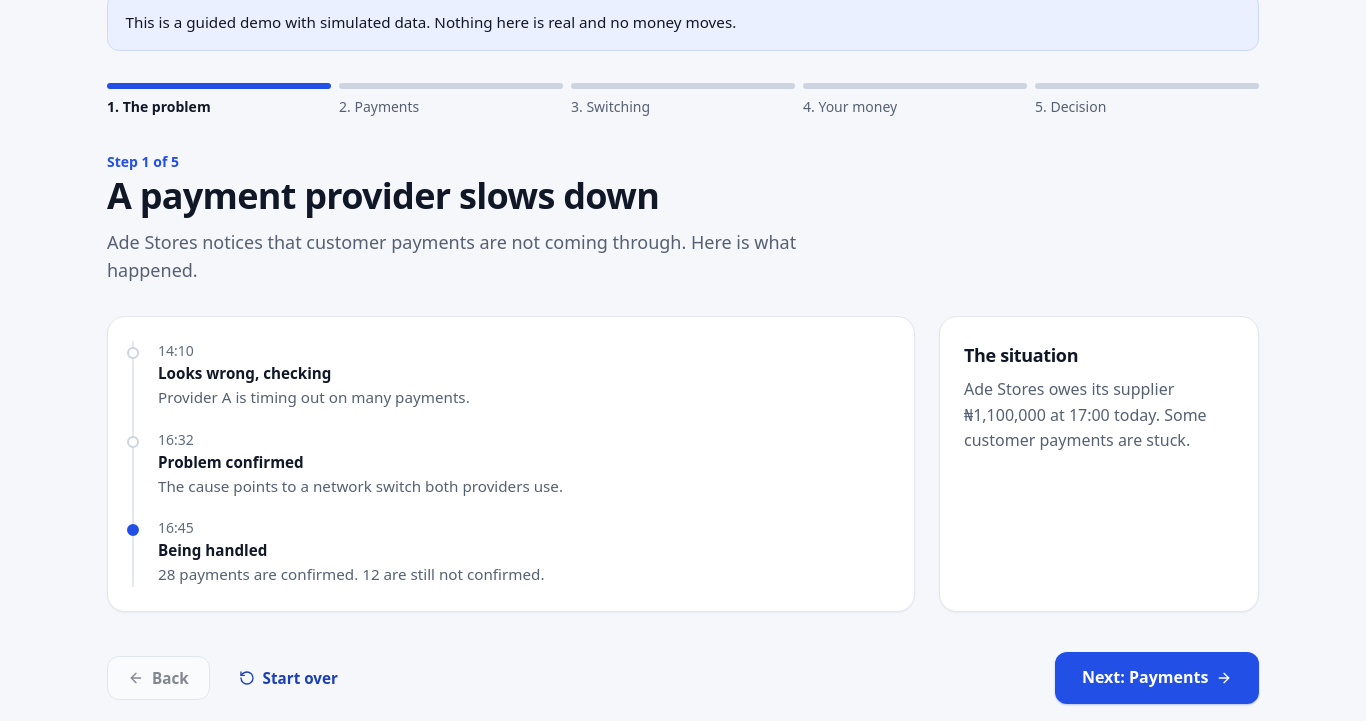
Test: guided demo experience › walks through the steps and gates approval by role
The image size is (1366, 721).
Check: the heading "A payment provider slows down" is shown, box x1=107 y1=171 x2=659 y2=220
Click the button "Next: Payments".
click(1157, 678)  # box x1=1055 y1=652 x2=1259 y2=704
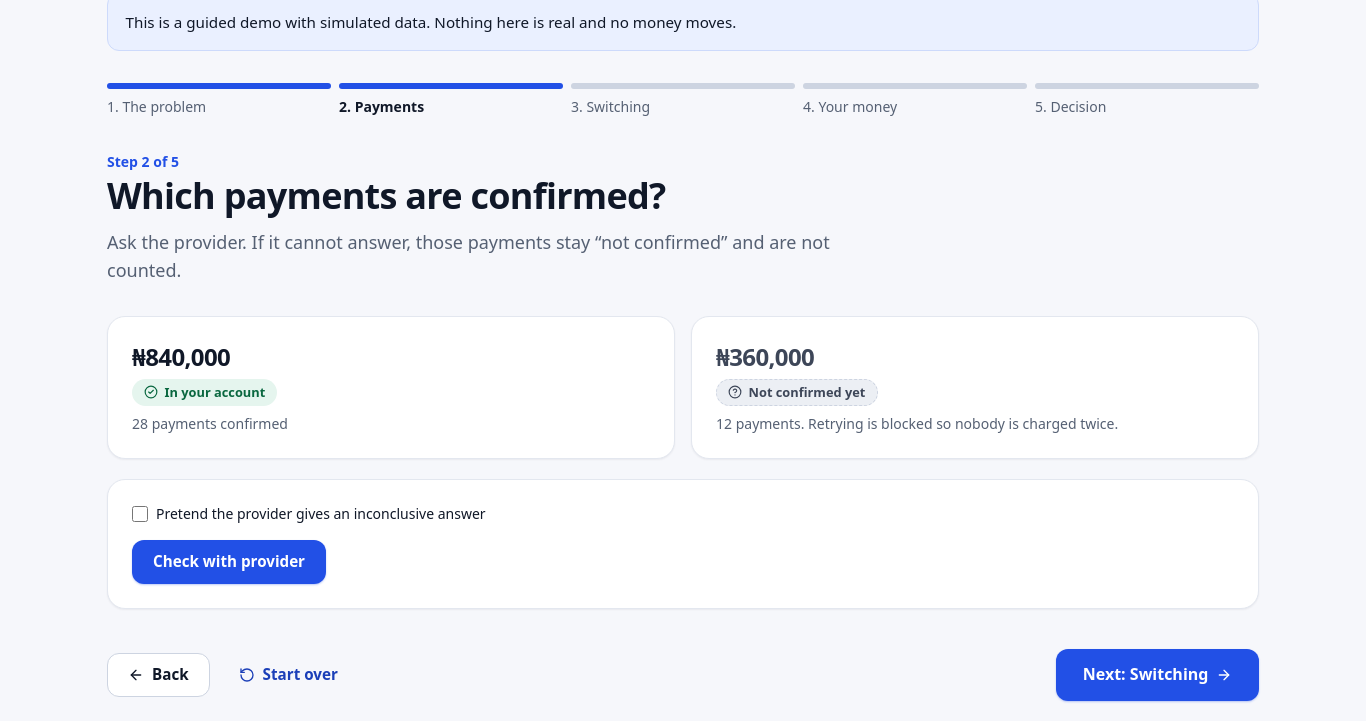
Check: the heading "Which payments are confirmed?" is shown, box x1=107 y1=171 x2=666 y2=220
Click the button with aria-label "Step 5: Decision".
click(1147, 100)  # box x1=1035 y1=83 x2=1259 y2=117
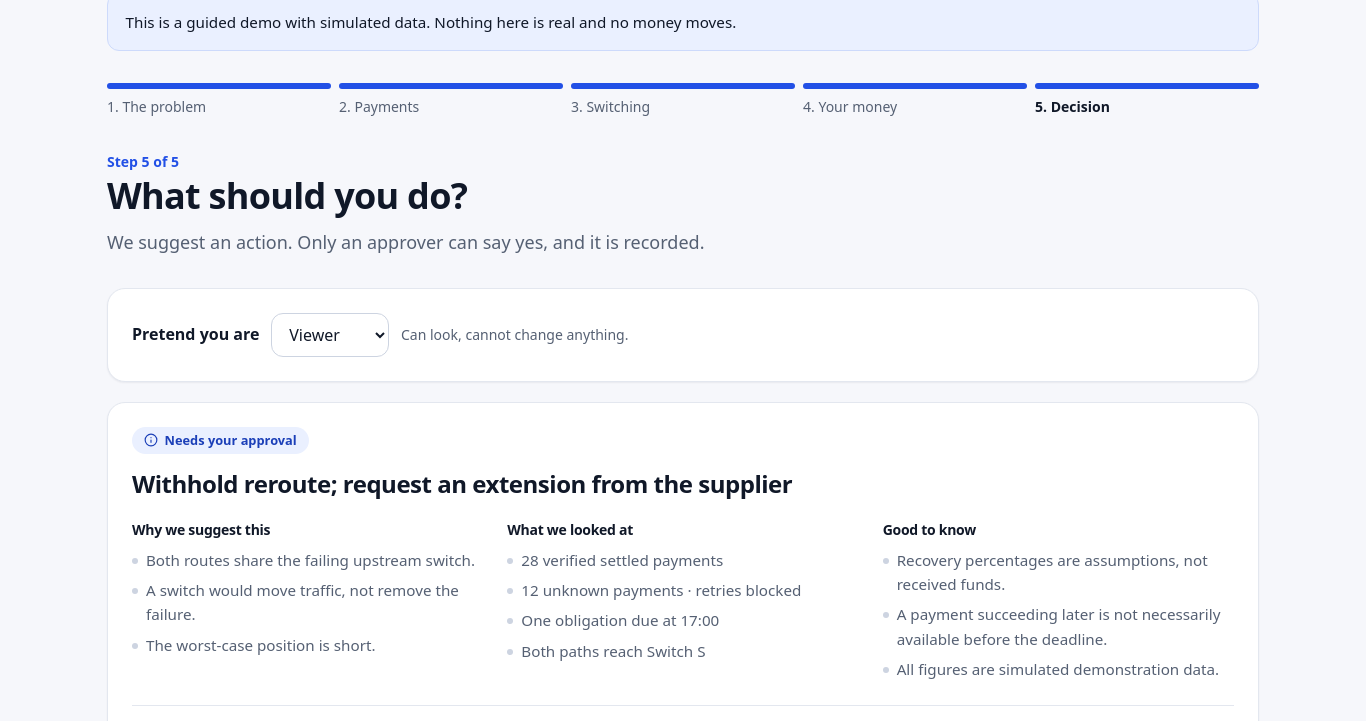
Check: the heading "What should you do?" is shown, box x1=107 y1=171 x2=467 y2=220
Select "Approver" in the dropdown named "Demo role" at point(330, 335), box x1=271 y1=313 x2=389 y2=357
(page scrolled)
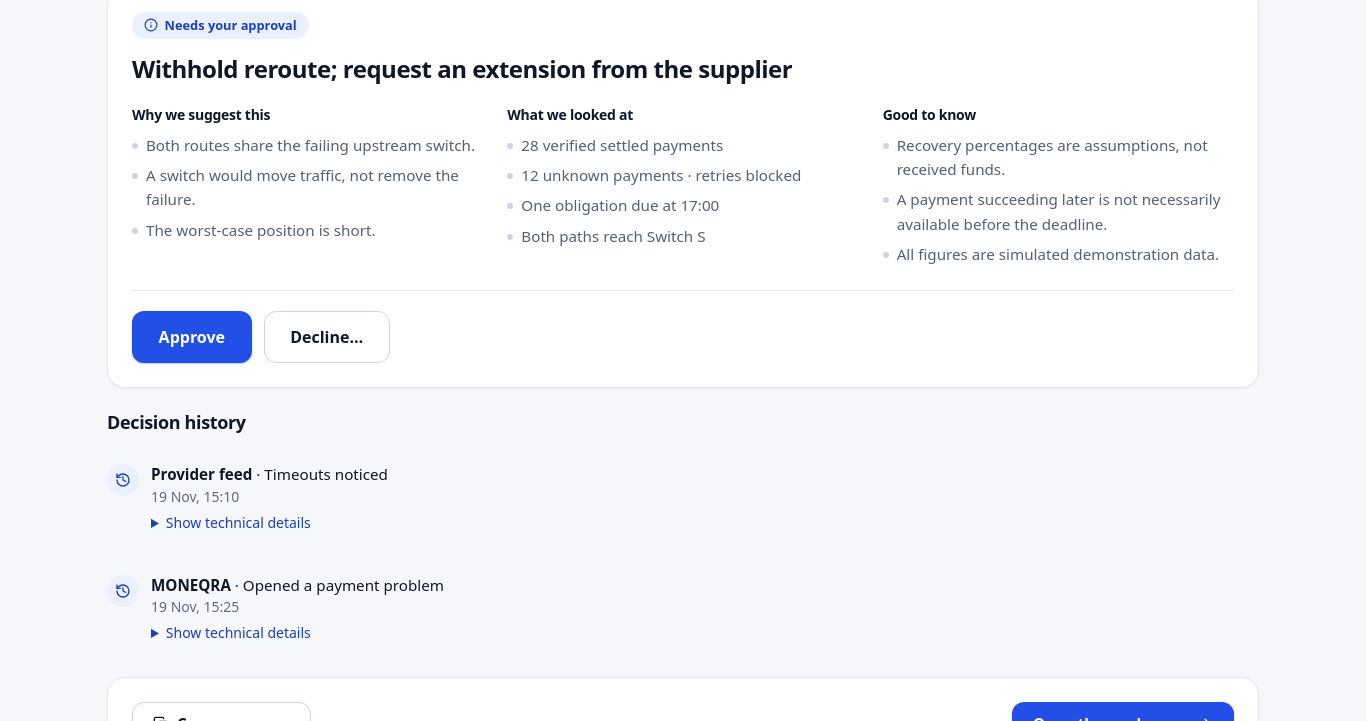
Check: the button "Approve" is enabled
Click the button "Approve".
click(192, 337)  # box x1=132 y1=311 x2=252 y2=363
(page scrolled)
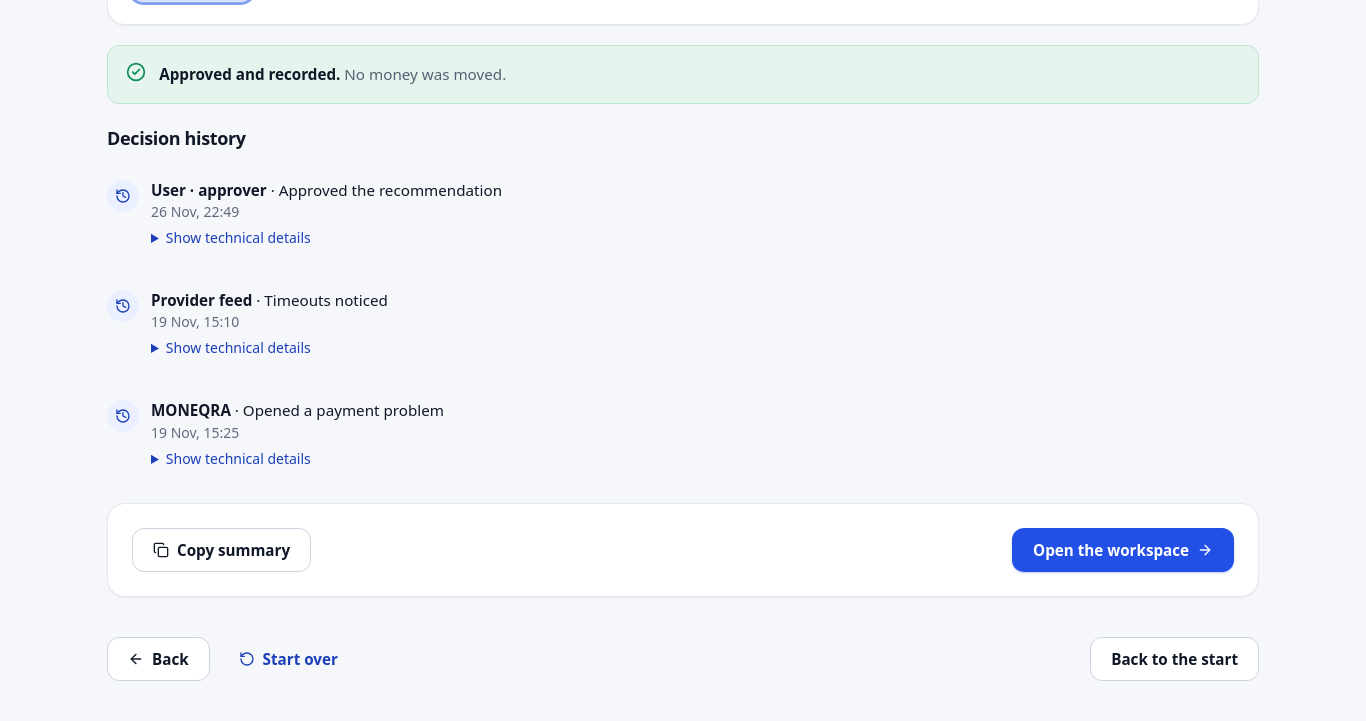
Check: the text "Approved and recorded." is shown, box x1=159 y1=64 x2=340 y2=84
